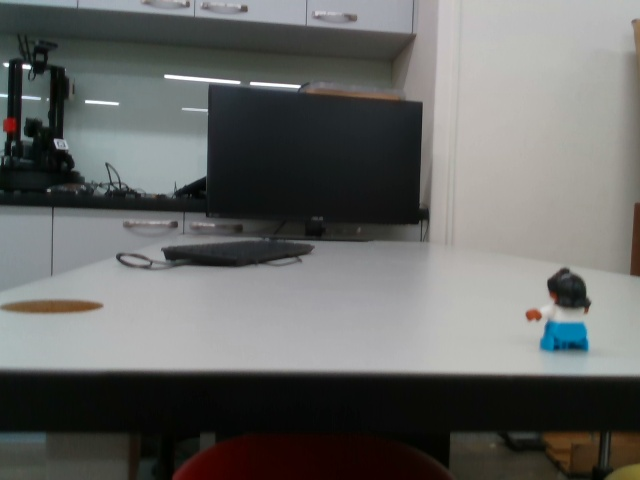people: (523, 267, 598, 356)
